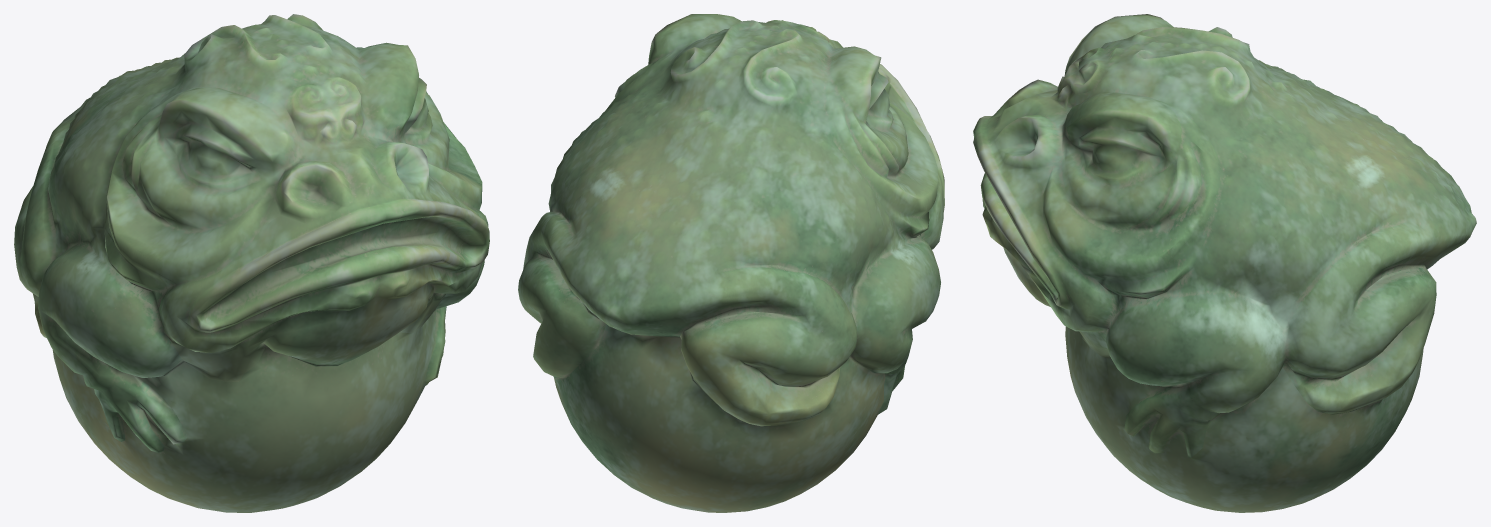
Rendered from JadeToad.gltf.
The picture shows the model from 3 angles, left to right: view 1: azimuth 30°, elevation 25°; view 2: azimuth 150°, elevation 25°; view 3: azimuth 270°, elevation 25°; orthographic projection. The views are drawn at different scales.
Parts seen in each view (by area): view 1: Toad_Final_Low:Group28800; view 2: Toad_Final_Low:Group28800; view 3: Toad_Final_Low:Group28800.
Boxes of the visible parts, box(x1,y1,x2,y2) form: Toad_Final_Low:Group28800: box(14, 14, 489, 512); Toad_Final_Low:Group28800: box(518, 14, 944, 512); Toad_Final_Low:Group28800: box(973, 14, 1476, 512).
Size of the model in its own units: 35.34 by 40.59 by 40.69.
1 material, 1 textured.
